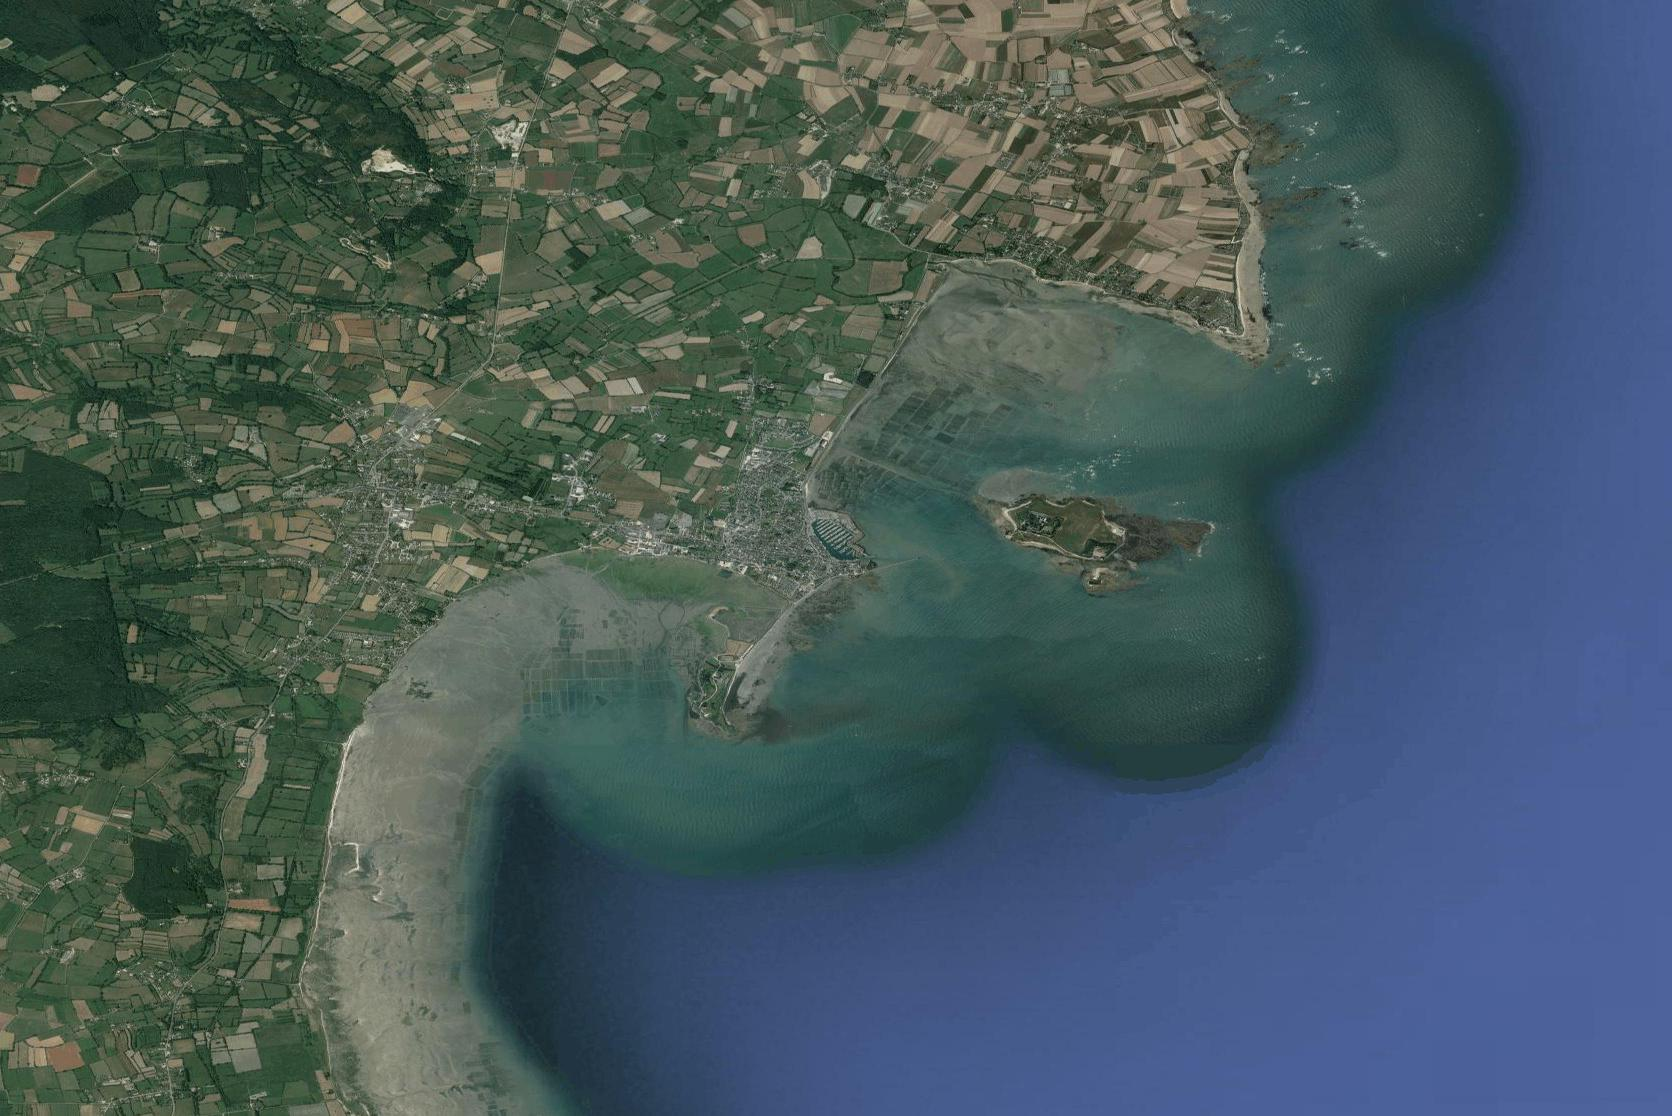harbor: (809, 504, 880, 580)
